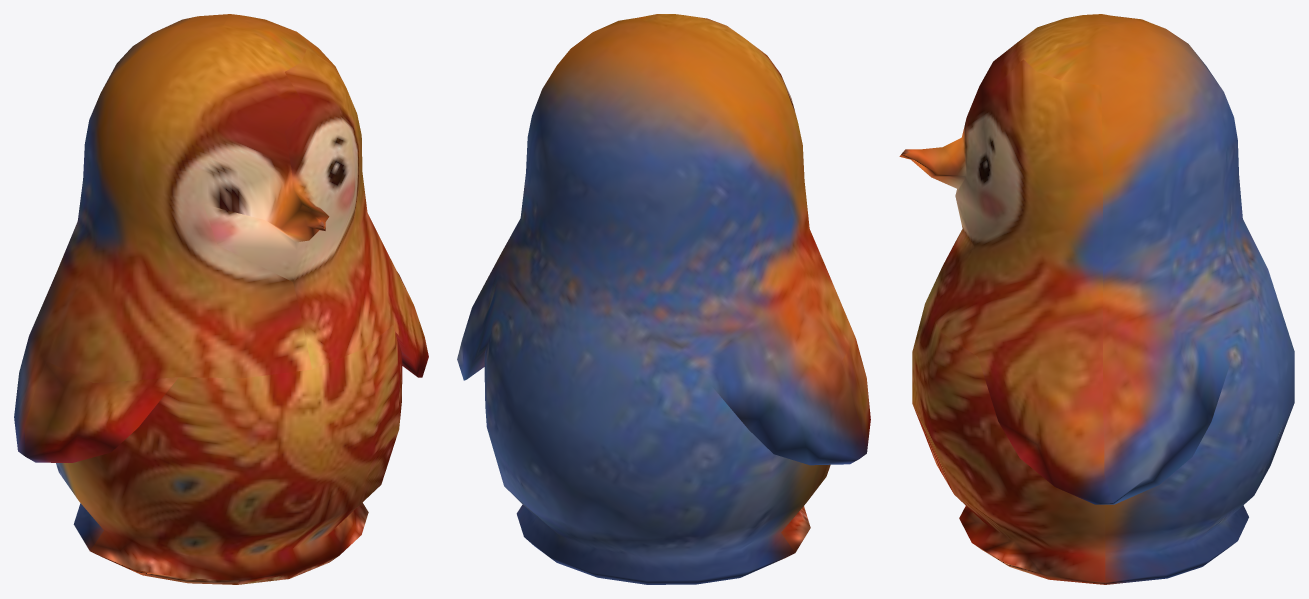
The model's file is penguin-06-13-gold-firebird-penguin-doll.gltf.
3 renders of one model, left to right at view 1: azimuth 30°, elevation 25°; view 2: azimuth 150°, elevation 25°; view 3: azimuth 270°, elevation 25°, orthographic.
Parts seen in each view (by area): view 1: penguin-06-13-gold-firebird-penguin-doll; view 2: penguin-06-13-gold-firebird-penguin-doll; view 3: penguin-06-13-gold-firebird-penguin-doll.
Part boxes in pixels (<box>): penguin-06-13-gold-firebird-penguin-doll: <box>14,14,428,584</box>; penguin-06-13-gold-firebird-penguin-doll: <box>457,14,870,584</box>; penguin-06-13-gold-firebird-penguin-doll: <box>899,14,1294,584</box>.
Bounding box in the file's own units: 0.2 × 0.2471 × 0.1717.
1 material, 1 textured.
